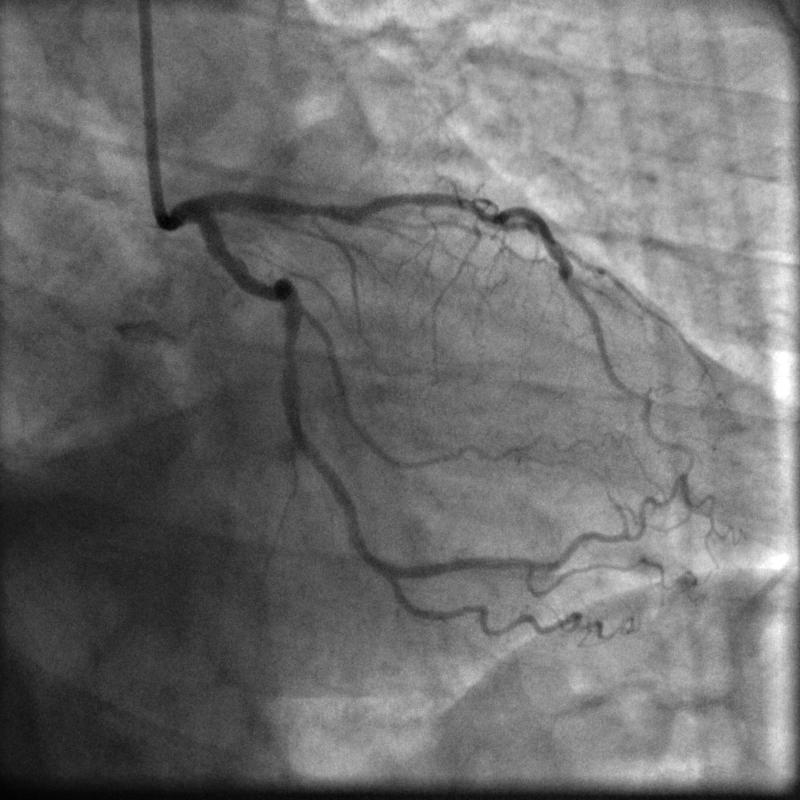Stenosis: (281, 343, 299, 368)
